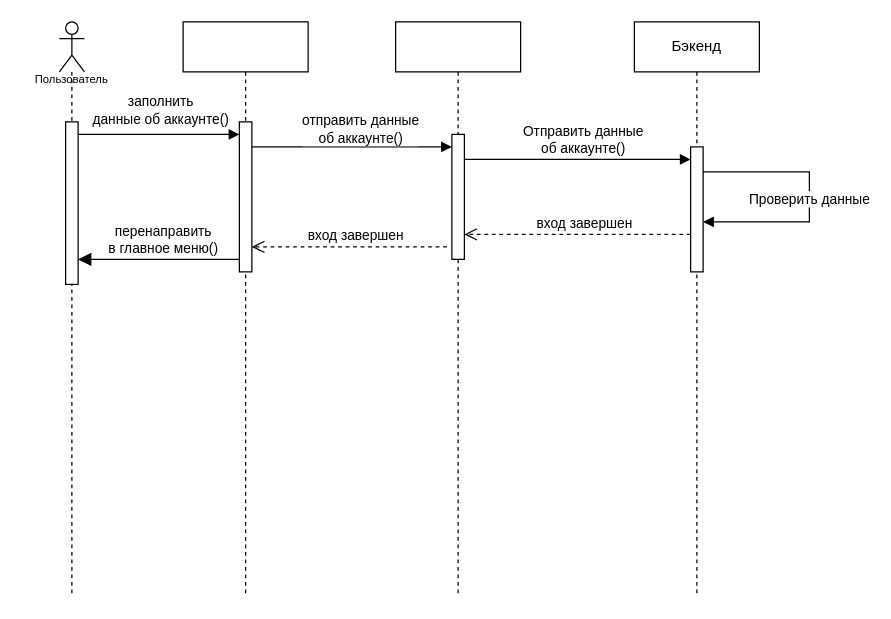
This 891x619 diagram has some shape labels left out. Each missing label, with the box of its shape:
ViewModel: (394, 21, 521, 597)
Интерфейс: (182, 21, 308, 597)
